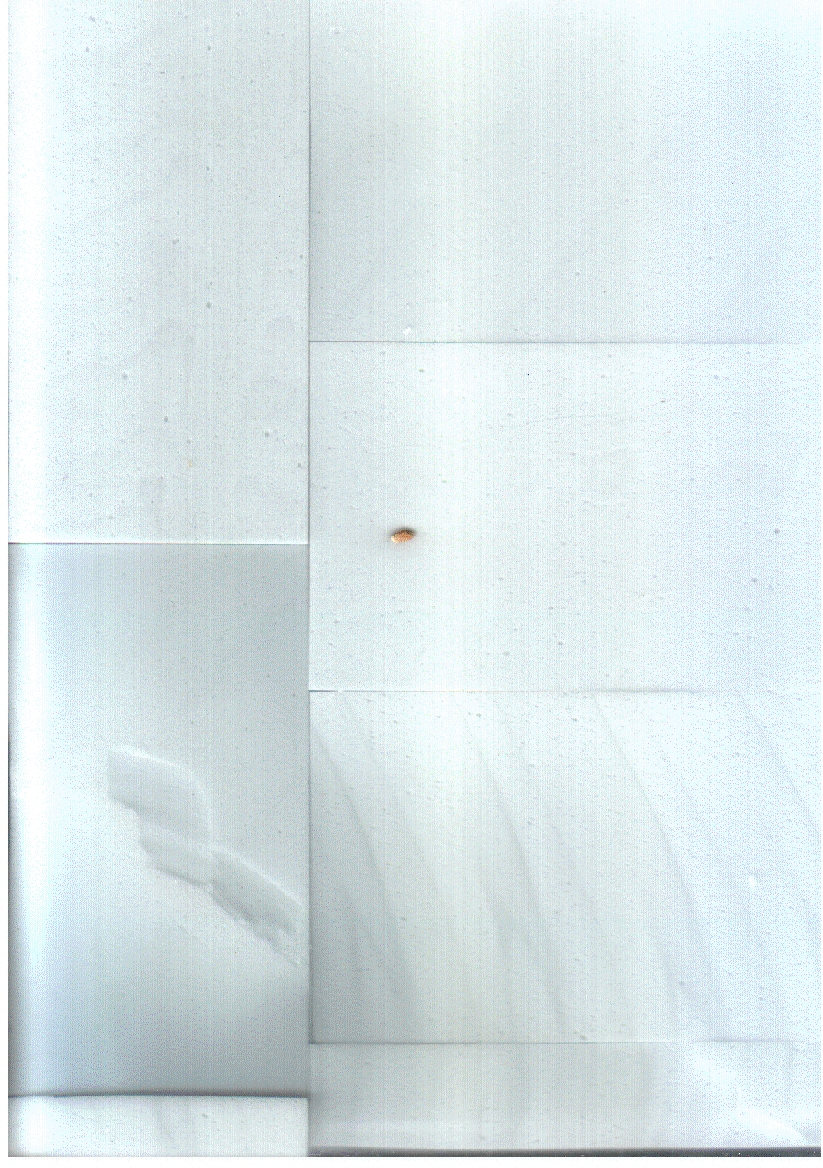grains: (381, 513, 423, 561)
